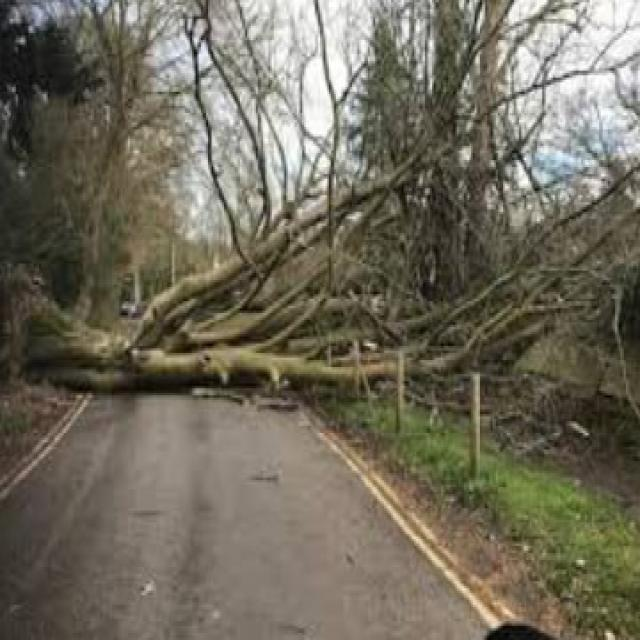fallen_tree: (40, 88, 618, 439)
